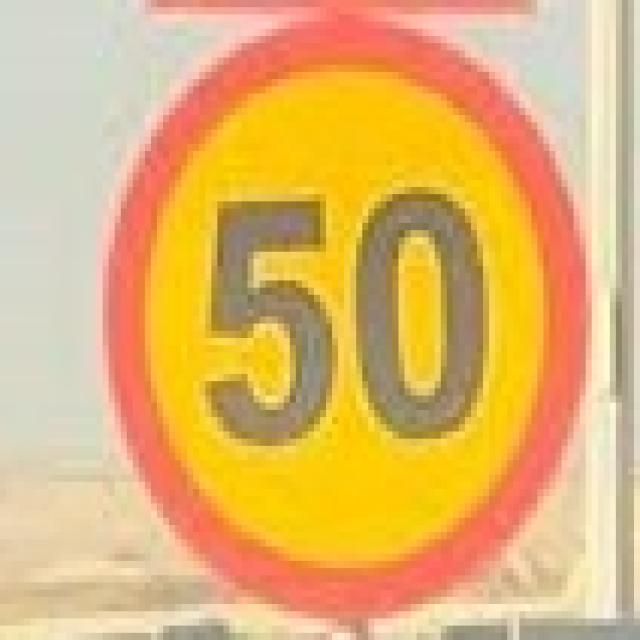Limite-50: (97, 16, 594, 624)
